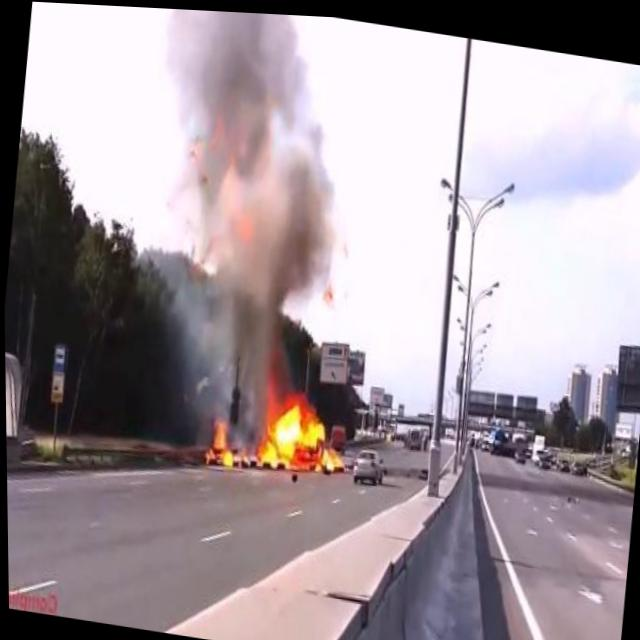fire: (250, 381, 330, 480), (200, 399, 238, 469), (320, 438, 344, 471)
